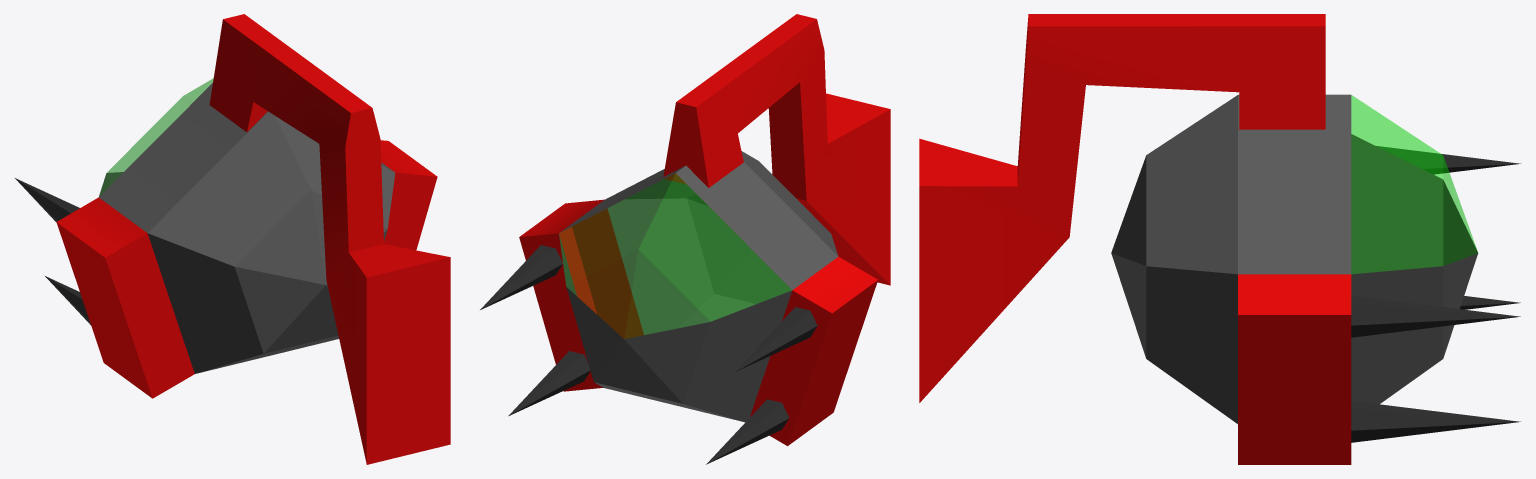
Rendered from StingerEnemy.fbx.
The picture shows the model from 3 angles, left to right: view 1: azimuth 30°, elevation 25°; view 2: azimuth 150°, elevation 25°; view 3: azimuth 270°, elevation 25°; orthographic projection. The views are drawn at different scales.
Parts seen in each view (by area): view 1: pSphere1, pCube1, pCone1, pCone3; view 2: pSphere1, pCube1, pCone3, pCone2, pCone1, pCone4; view 3: pSphere1, pCube1, pCone2, pCone4, pCone1.
Boxes of the visible parts, left/top/right/bottom form: pSphere1: left=56, top=78, right=437, bottom=398; pCube1: left=209, top=14, right=450, bottom=464; pCone1: left=15, top=178, right=79, bottom=222; pCone3: left=45, top=276, right=90, bottom=324; pSphere1: left=519, top=151, right=877, bottom=446; pCube1: left=663, top=14, right=890, bottom=285; pCone3: left=706, top=399, right=789, bottom=464; pCone2: left=480, top=245, right=562, bottom=309; pCone1: left=734, top=307, right=817, bottom=372; pCone4: left=508, top=351, right=590, bottom=416; pSphere1: left=1111, top=94, right=1478, bottom=464; pCube1: left=919, top=14, right=1325, bottom=402; pCone2: left=1351, top=295, right=1520, bottom=337; pCone4: left=1351, top=401, right=1520, bottom=442; pCone1: left=1376, top=146, right=1520, bottom=174.
Bounding box in the file's own units: 6.64 × 6.22 × 8.98.
